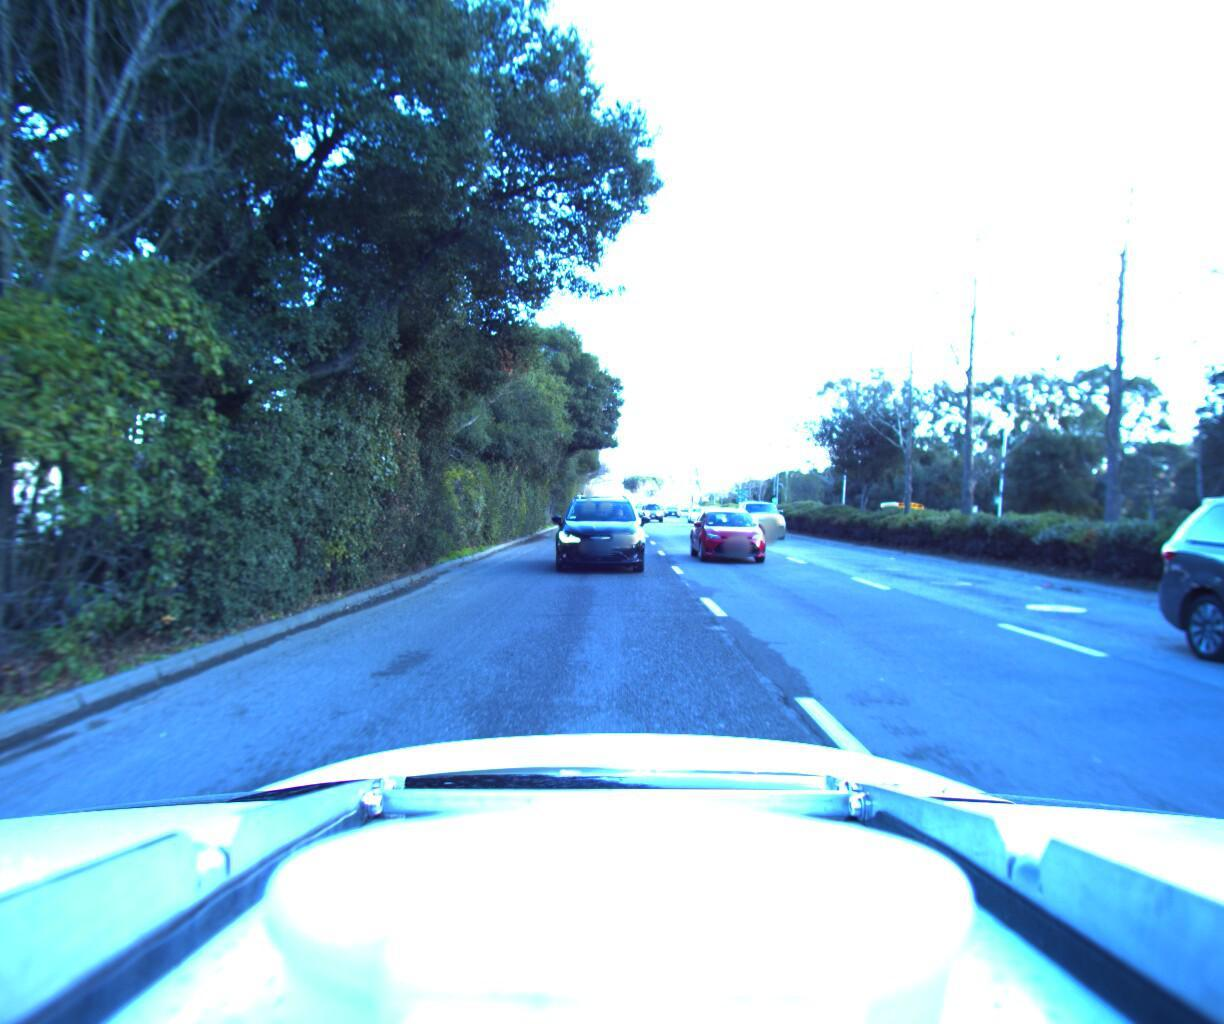bus: (863, 494, 920, 528)
car: (1199, 472, 1224, 893), (548, 486, 642, 580), (687, 499, 784, 573), (737, 494, 797, 535), (638, 500, 664, 520), (685, 503, 712, 522)
